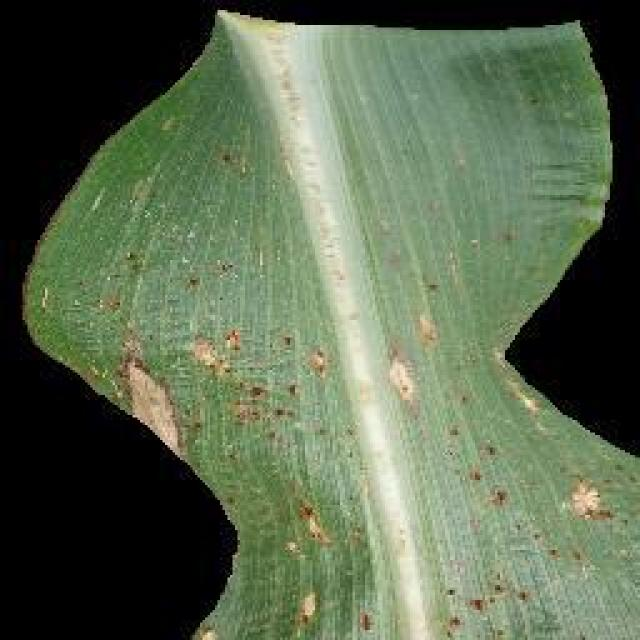Corn Common Rust: (99, 236, 584, 636)
